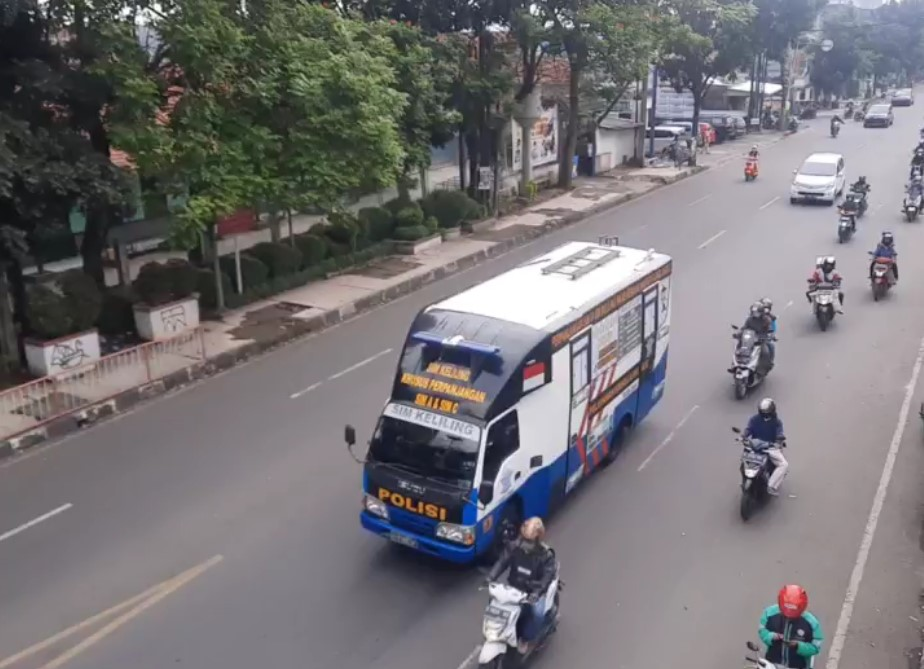motor: (475, 508, 585, 669), (731, 399, 792, 521), (727, 297, 780, 402), (803, 256, 848, 335), (865, 233, 903, 302), (825, 188, 867, 248)
